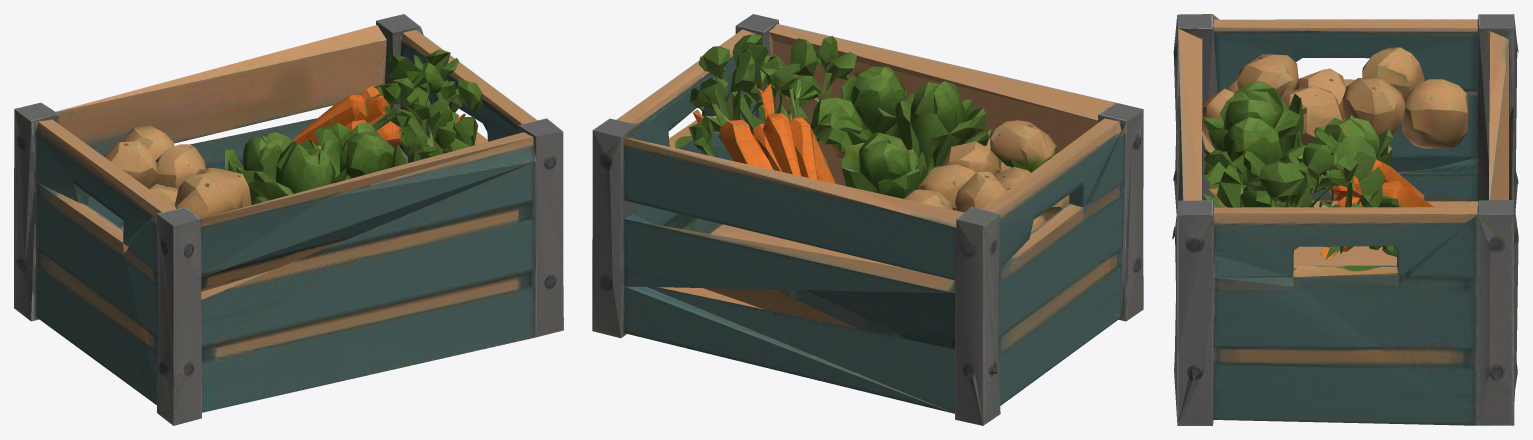
The model's file is produceCrate.glb.
The picture shows the model from 3 angles, left to right: view 1: azimuth 30°, elevation 25°; view 2: azimuth 150°, elevation 25°; view 3: azimuth 270°, elevation 25°; orthographic projection. The views are drawn at different scales.
Visible parts, largest first — view 1: Mesh_0; view 2: Mesh_0; view 3: Mesh_0.
Part boxes in pixels (x1,y1,x2,y2): Mesh_0: [14, 14, 563, 425]; Mesh_0: [592, 14, 1143, 425]; Mesh_0: [1172, 14, 1518, 425].
Bounding box in the file's own units: 0.5626 × 0.3166 × 0.4.
1 material, 1 textured.
